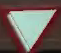Give way: (2, 4, 56, 49)
